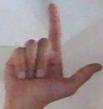L: (3, 3, 101, 103)
